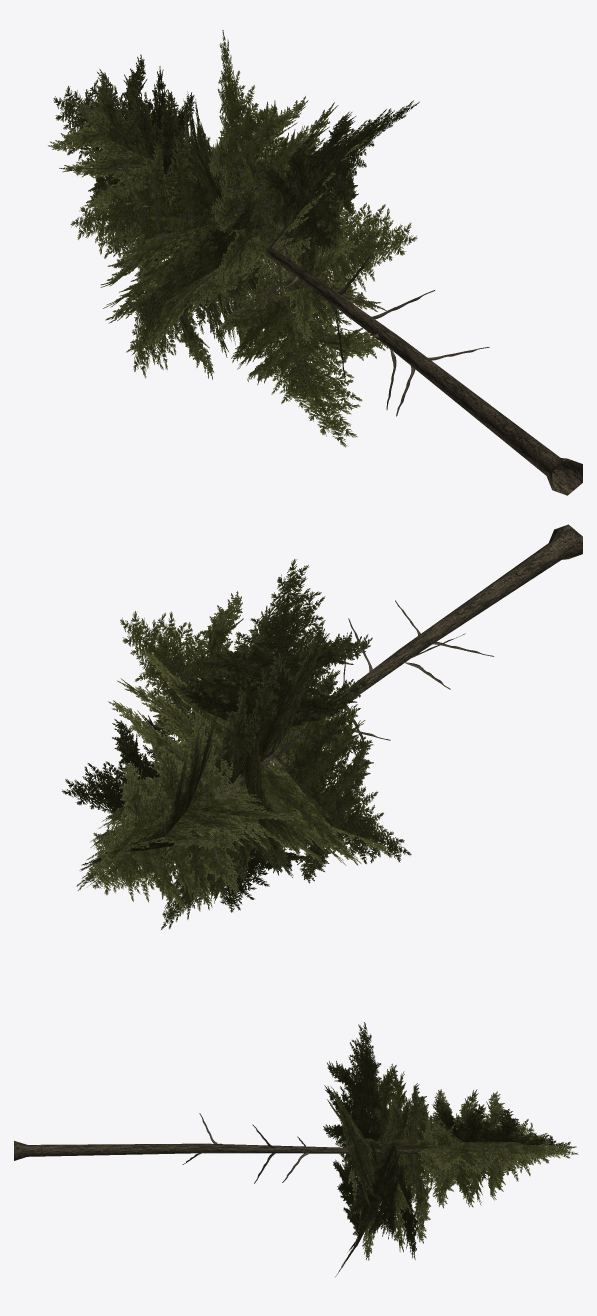
File: MEP_Con_01_d.fbx
3 views of the same model, one above another, from view 1: azimuth 30°, elevation 25°; view 2: azimuth 150°, elevation 25°; view 3: azimuth 270°, elevation 25° (orthographic). The views are drawn at different scales.
Visible parts, largest first — view 1: MEP_Con_01_d, MEP_ConTrunk_01_d; view 2: MEP_Con_01_d, MEP_ConTrunk_01_d; view 3: MEP_Con_01_d, MEP_ConTrunk_01_d.
Boxes of the visible parts, x1,y1,x2,y2 form: MEP_Con_01_d: (48,30,489,447); MEP_ConTrunk_01_d: (75,109,582,495); MEP_Con_01_d: (62,559,494,929); MEP_ConTrunk_01_d: (89,524,582,885); MEP_Con_01_d: (160,1022,578,1276); MEP_ConTrunk_01_d: (14,1140,568,1160).
Bounding box in the file's own units: 13.44 × 15.5 × 31.94.
